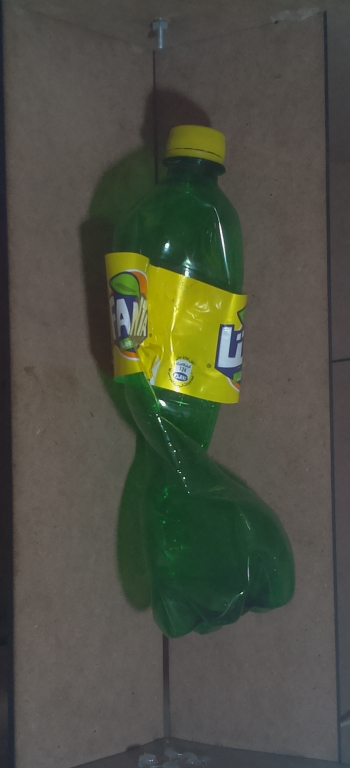Bouteille_1L: (98, 116, 301, 639)
